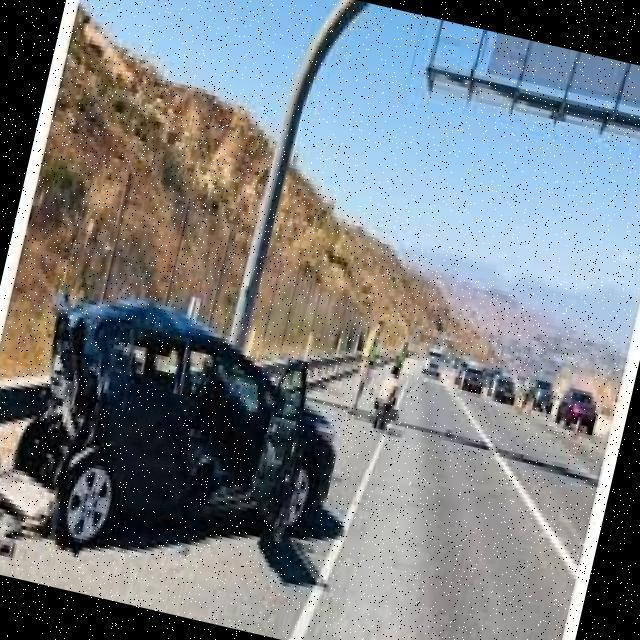accident: (0, 255, 374, 569)
